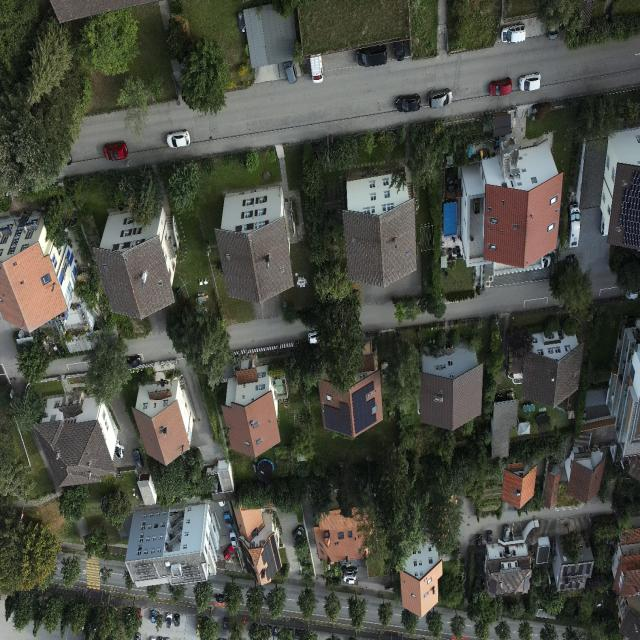panneaux_solaires: (618, 169, 640, 246), (352, 381, 377, 434), (261, 535, 282, 581), (323, 403, 352, 435), (562, 564, 592, 590)
passage_pieton: (86, 556, 100, 589)
